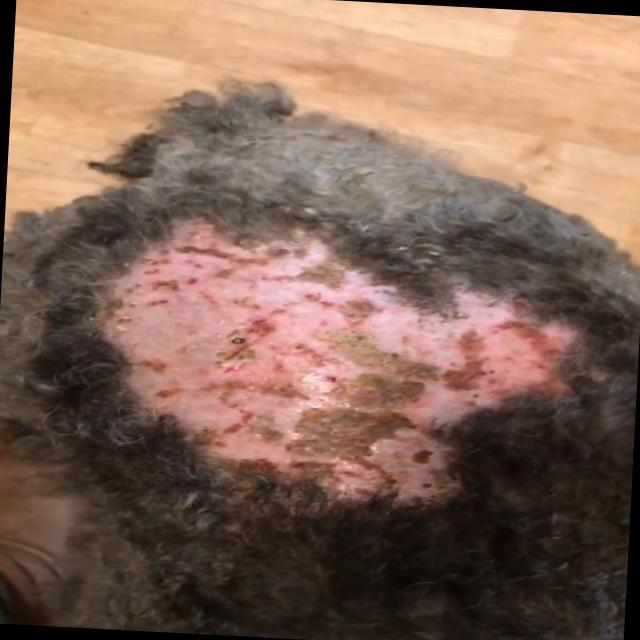allergic dermatitis: (106, 204, 571, 523)
